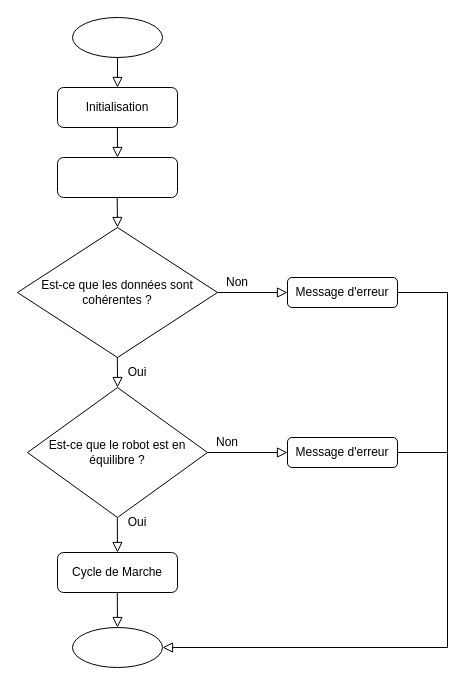
Some shapes in this 475 by 685 pixel diagram are drawn without their labels. The centre of each missing label's shape, as x and y in pixels:
"Début" belongs at (x=117, y=37).
"Fin" belongs at (x=117, y=647).
"Lecture des données" belongs at (x=117, y=177).
